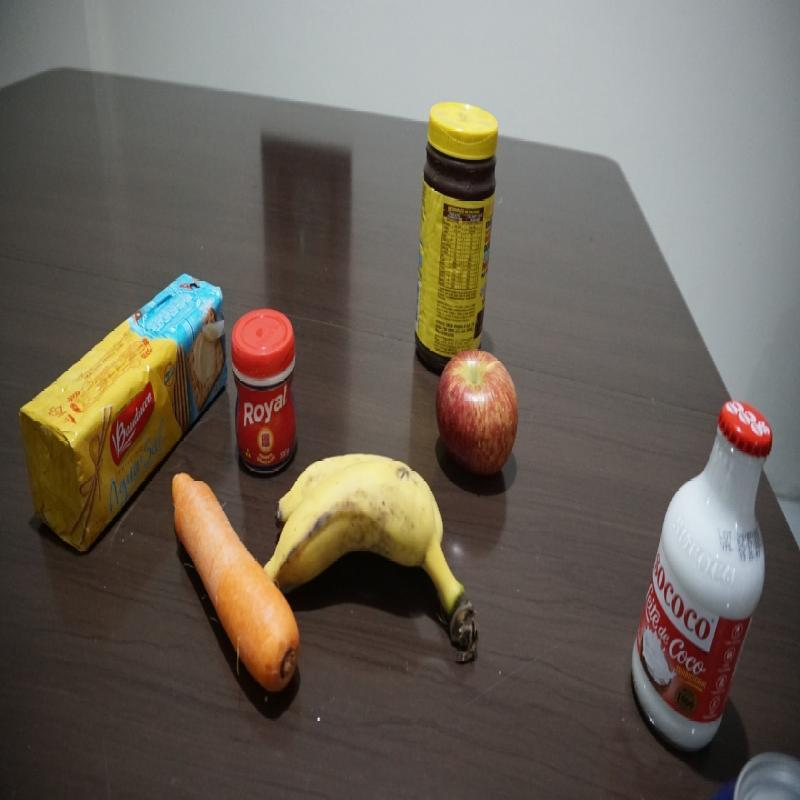Apple: (434, 347, 518, 467)
Banana: (301, 455, 476, 678)
Carrot: (160, 474, 261, 706)
Chocolate Powder: (419, 94, 499, 338)
Coconut Milk: (630, 388, 774, 750)
Cracker: (14, 269, 226, 453)
Yeast: (231, 302, 301, 476)
